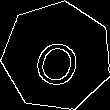O_N: (27, 25, 86, 87)
